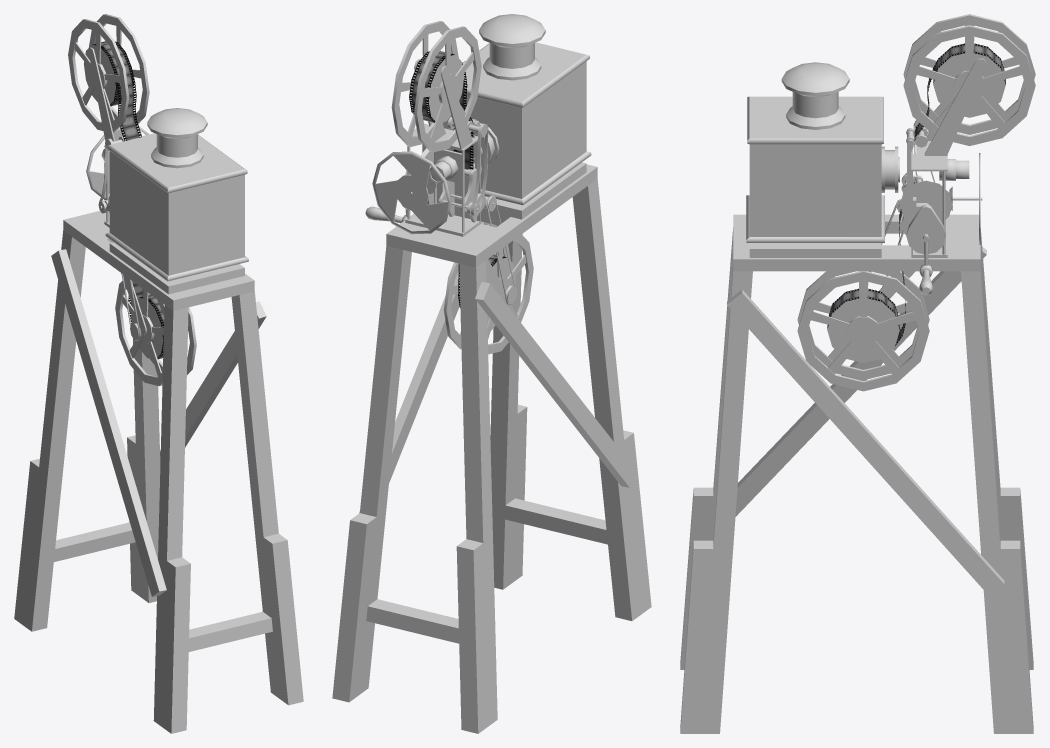
The model's file is SM_Projector.fbx.
3 renders of one model, left to right at view 1: azimuth 30°, elevation 25°; view 2: azimuth 150°, elevation 25°; view 3: azimuth 270°, elevation 25°, orthographic. The views are drawn at different scales.
Visible parts, largest first — view 1: SM_Projector; view 2: SM_Projector; view 3: SM_Projector.
Boxes of the visible parts, x1=… form: SM_Projector: x1=14, y1=14, x2=303, y2=733; SM_Projector: x1=332, y1=14, x2=651, y2=733; SM_Projector: x1=680, y1=14, x2=1035, y2=733.
Bounding box in the file's own units: 29.12 × 113 × 53.81.
